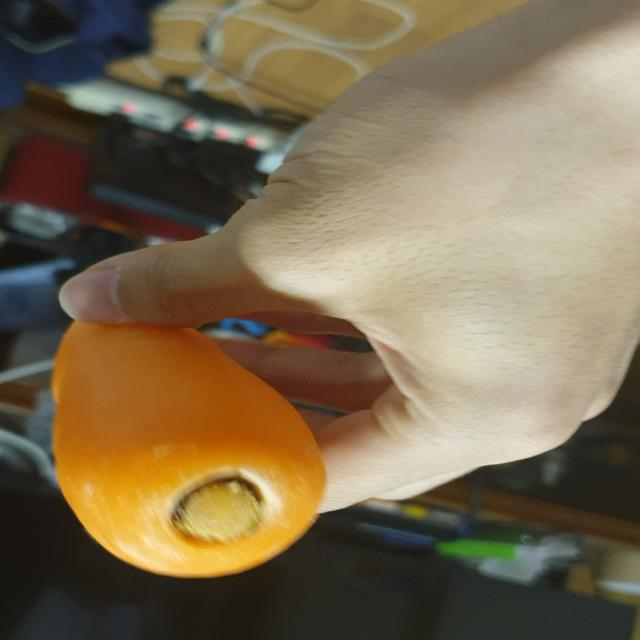Carrot: (45, 297, 338, 583)
